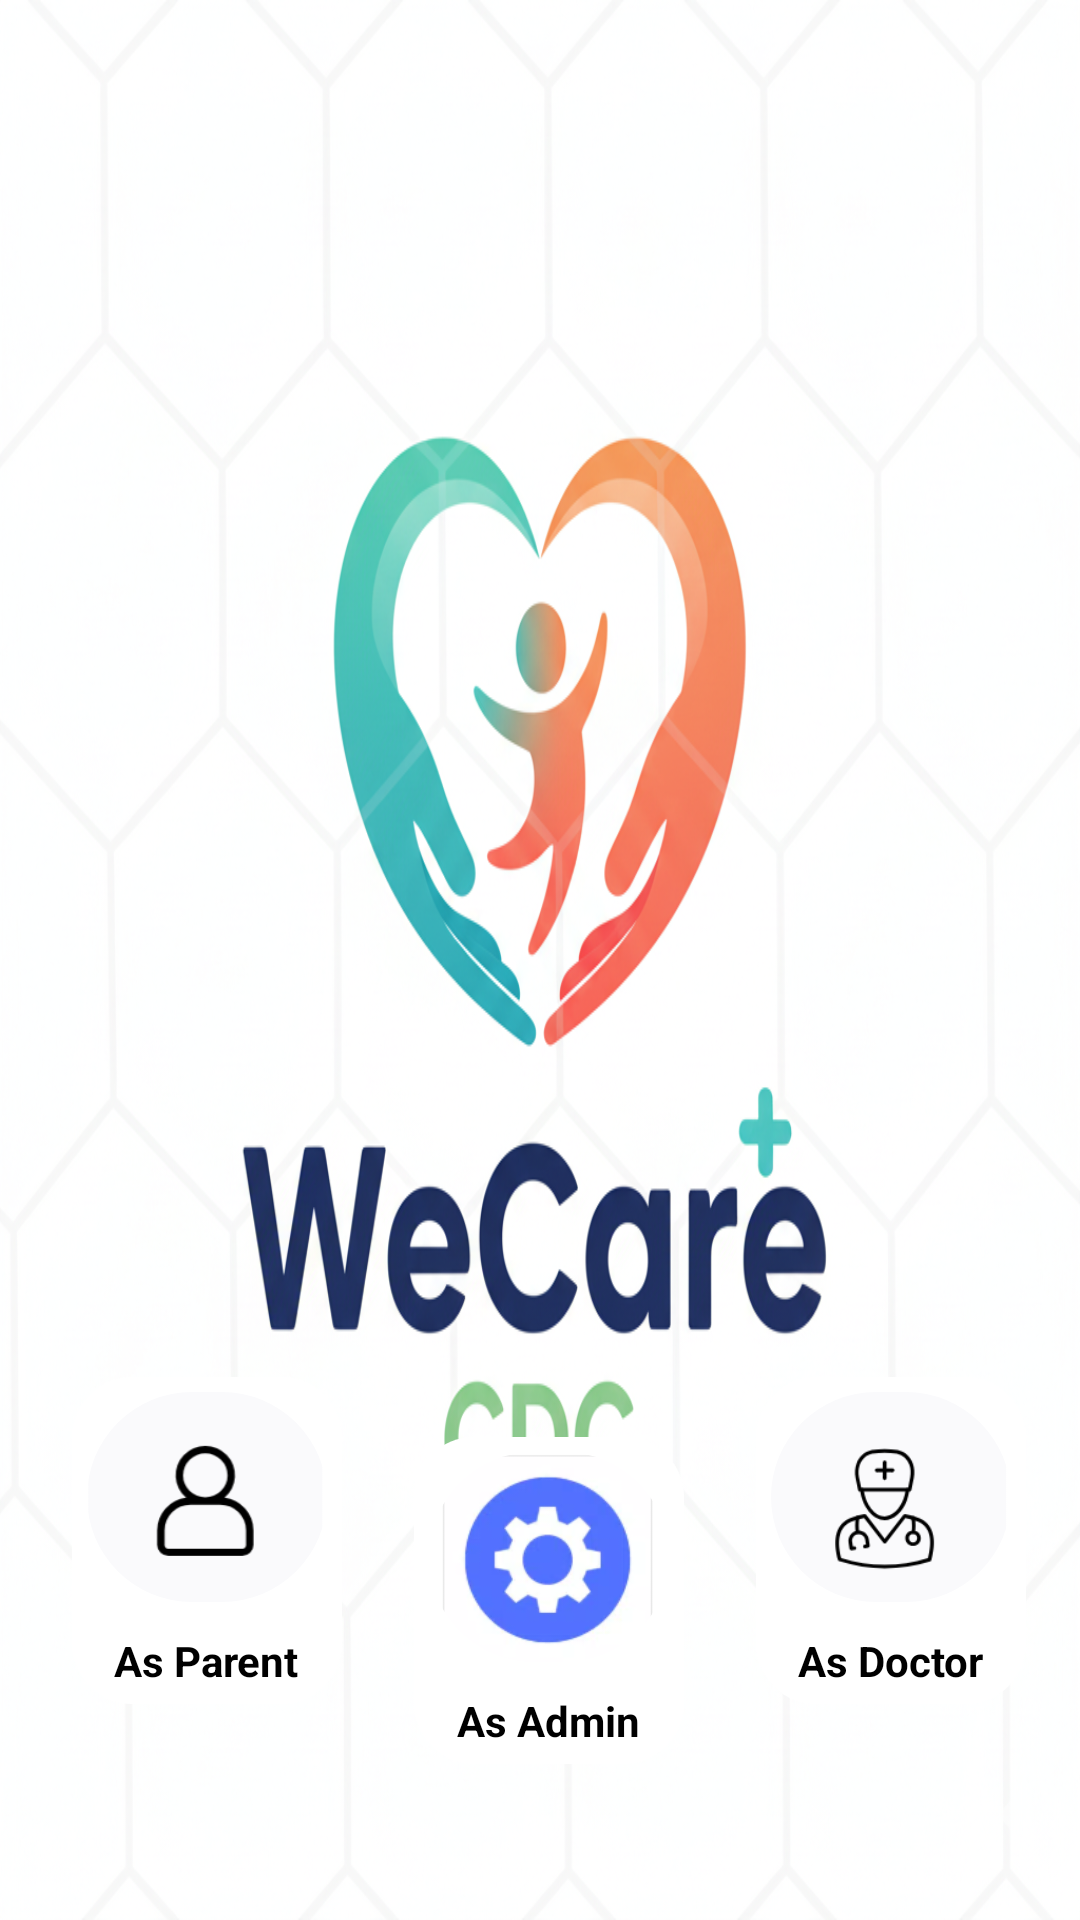

Where to tap for icons on this 1080px×1920px app screen, as (x=x, y=y):
you: (x=205, y=1500)
